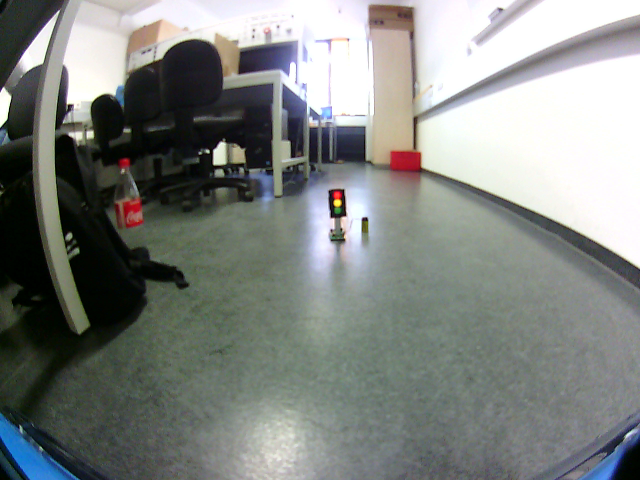red yellow trafficlight: (329, 191, 345, 216)
